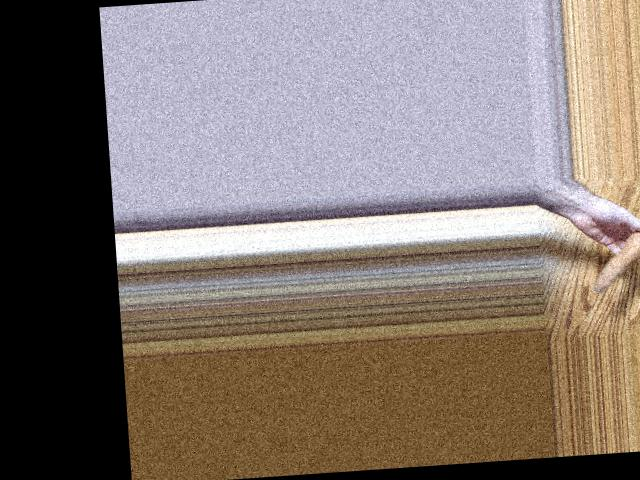sweet_potato: (590, 210, 640, 291)
